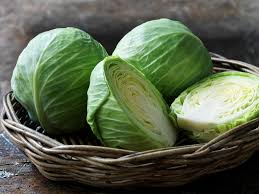cabbage: (11, 25, 112, 138), (86, 57, 176, 151), (113, 18, 217, 96), (169, 67, 259, 139)
